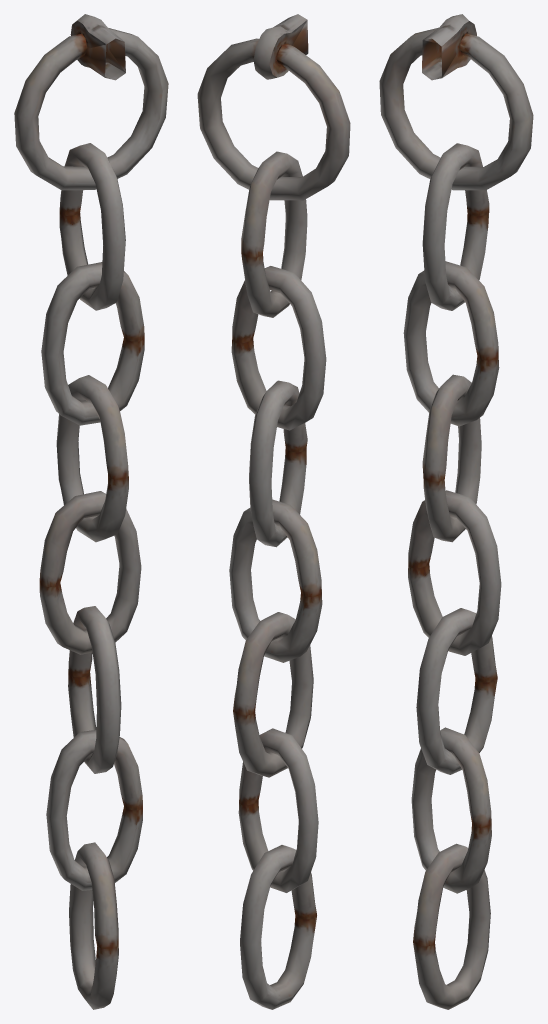
Rendered from Chain_02.fbx.
3 renders of one model, left to right at view 1: azimuth 30°, elevation 25°; view 2: azimuth 150°, elevation 25°; view 3: azimuth 330°, elevation 25°, orthographic.
Parts seen in each view (by area): view 1: Chain_02_LOD0; view 2: Chain_02_LOD0; view 3: Chain_02_LOD0.
Part boxes in pixels (left/top/right/bottom): Chain_02_LOD0: left=14, top=14, right=168, bottom=1009; Chain_02_LOD0: left=197, top=14, right=350, bottom=1009; Chain_02_LOD0: left=379, top=14, right=533, bottom=1009.
Size of what is drawn, in the model's own units: 0.1699 by 1.08 by 0.1121.
